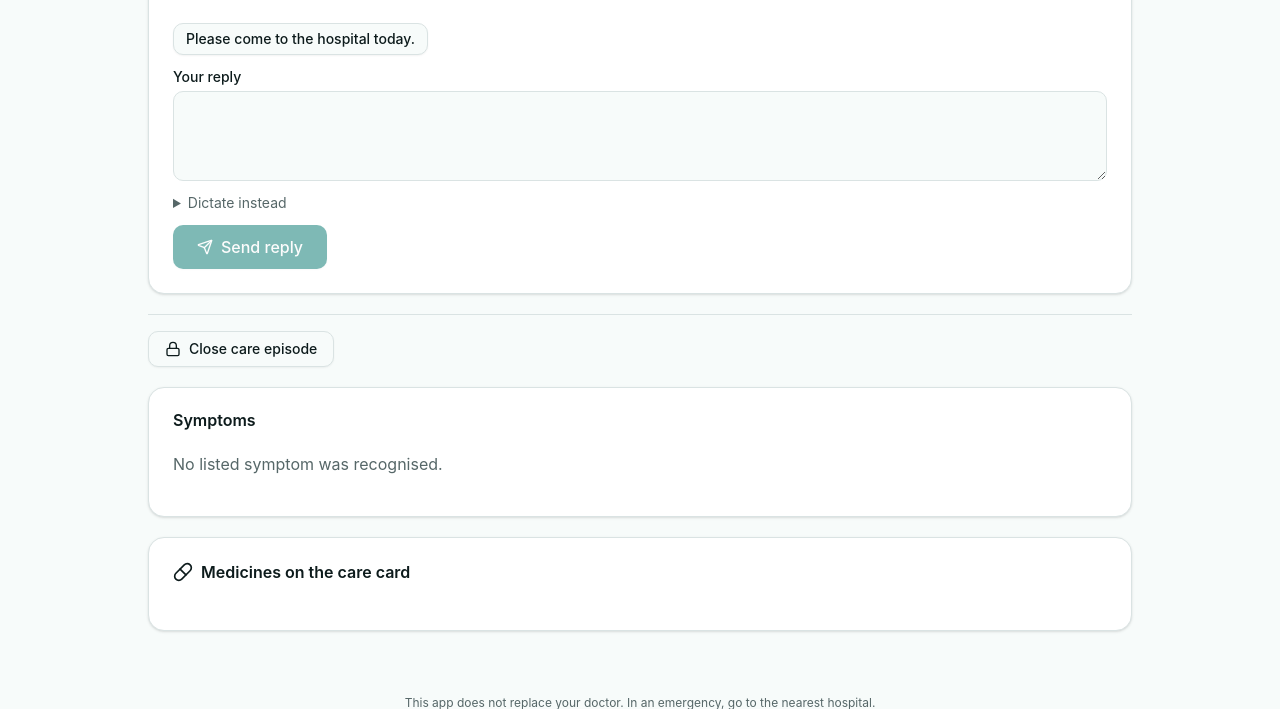
Test case: closing the episode asks first
(page scrolled)
Click the button "Close care episode" at (241, 349), box [148,331,334,367]
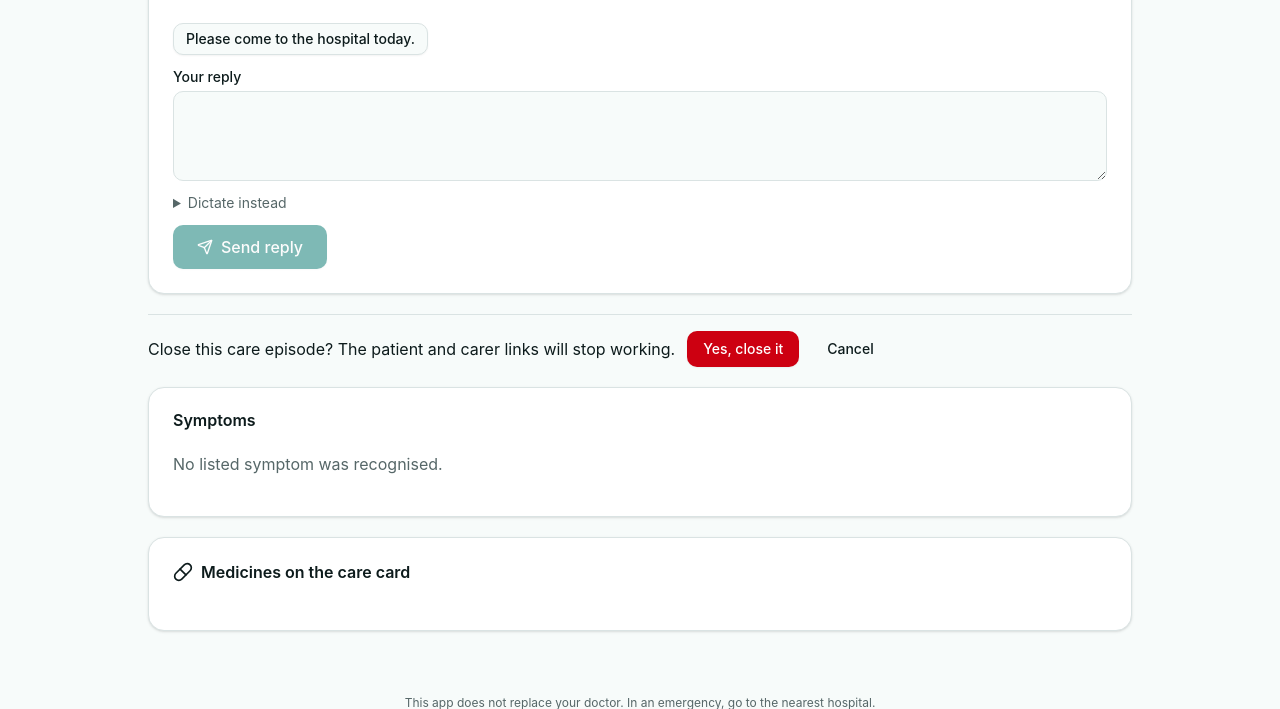
Click the button "Yes, close it" at (743, 349), box [687,331,799,367]
(page scrolled)
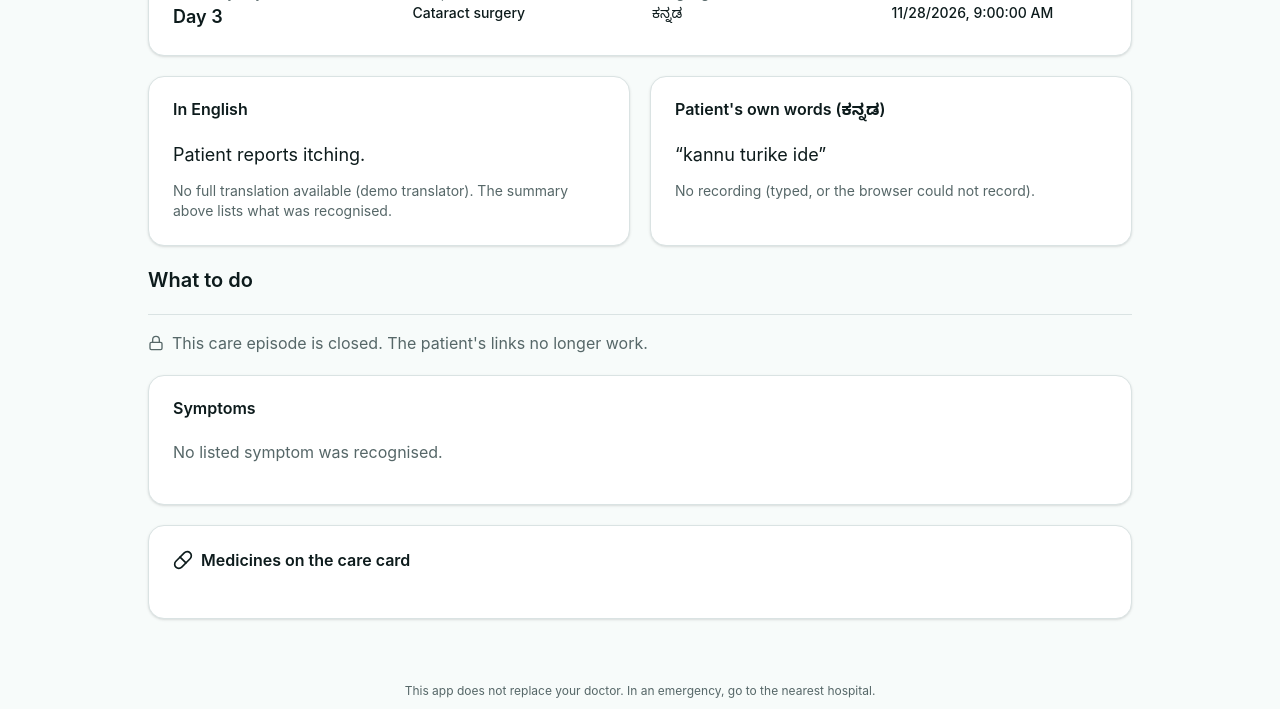
Expected: the text "This care episode is closed" is shown, [172,333,648,353]
